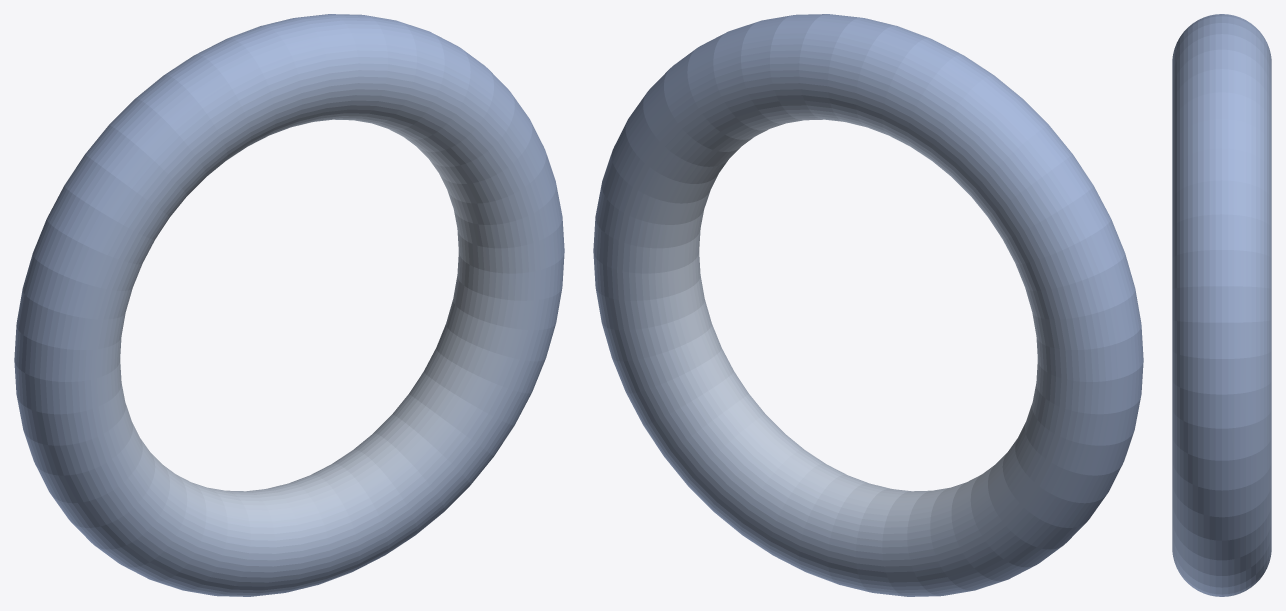
3 views of the same model, side by side, from view 1: azimuth 30°, elevation 25°; view 2: azimuth 150°, elevation 25°; view 3: azimuth 270°, elevation 25° (orthographic). The views are drawn at different scales.
Visible parts, largest first — view 1: world; view 2: world; view 3: world.
Part boxes in pixels (x1=…): world: x1=14, y1=14, x2=564, y2=596; world: x1=593, y1=14, x2=1143, y2=596; world: x1=1172, y1=14, x2=1271, y2=596.
Size of the model in its own units: 25.73 by 25.68 by 4.39.
